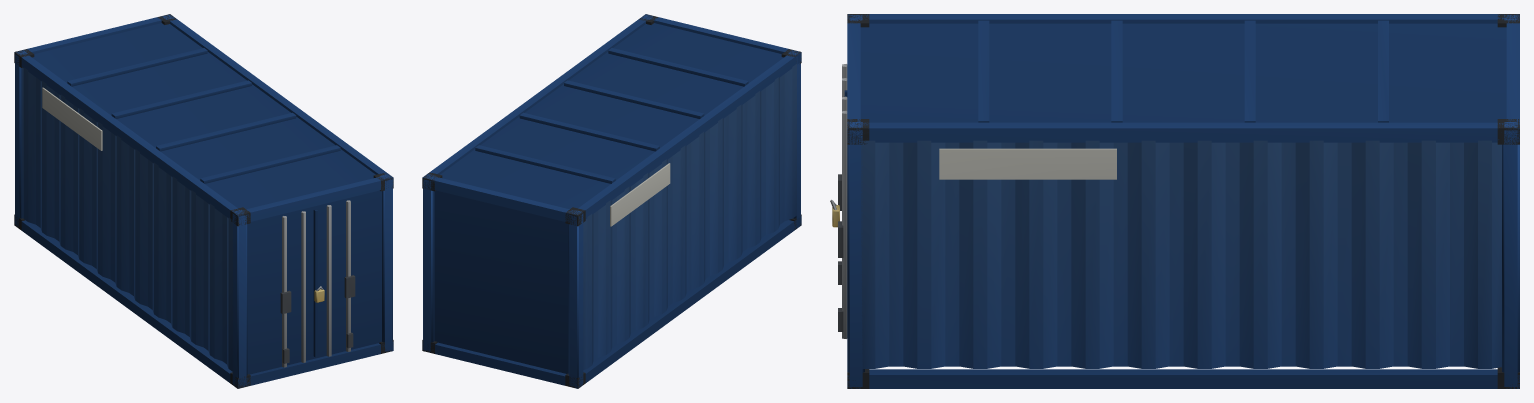
Rendered from contenedor_20ft_azul.glb.
3 views of the same model, side by side, from view 1: azimuth 30°, elevation 25°; view 2: azimuth 150°, elevation 25°; view 3: azimuth 270°, elevation 25° (orthographic). The views are drawn at different scales.
Visible parts, largest first — view 1: contenedor_20ft_azul; view 2: contenedor_20ft_azul; view 3: contenedor_20ft_azul.
Part boxes in pixels (x1,y1,x2,y2): contenedor_20ft_azul: [14, 14, 393, 388]; contenedor_20ft_azul: [422, 14, 801, 388]; contenedor_20ft_azul: [830, 14, 1519, 388].
Size of the model in its own units: 2.52 by 2.6 by 6.22.
